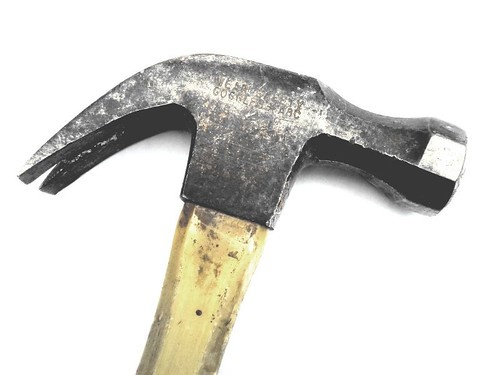hammer: (14, 53, 468, 375)
